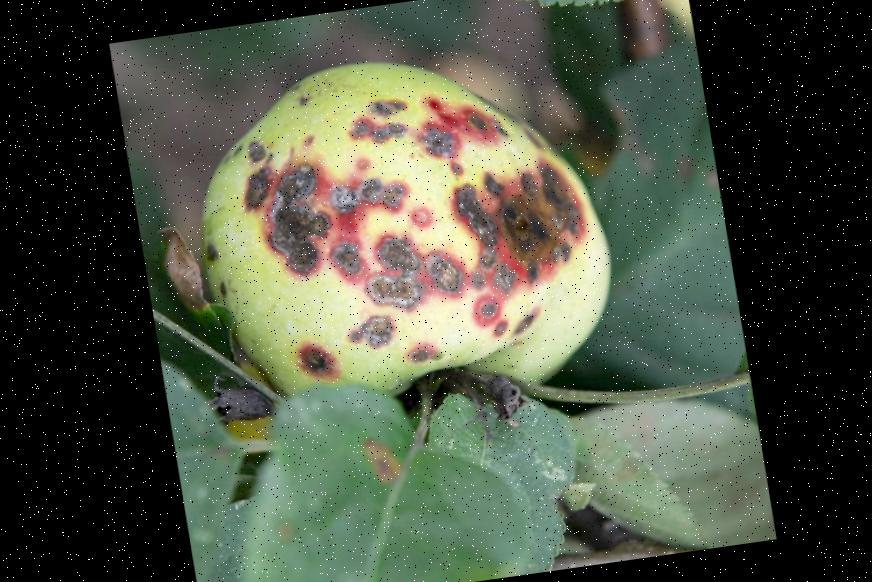SCAB: (166, 18, 647, 448)
